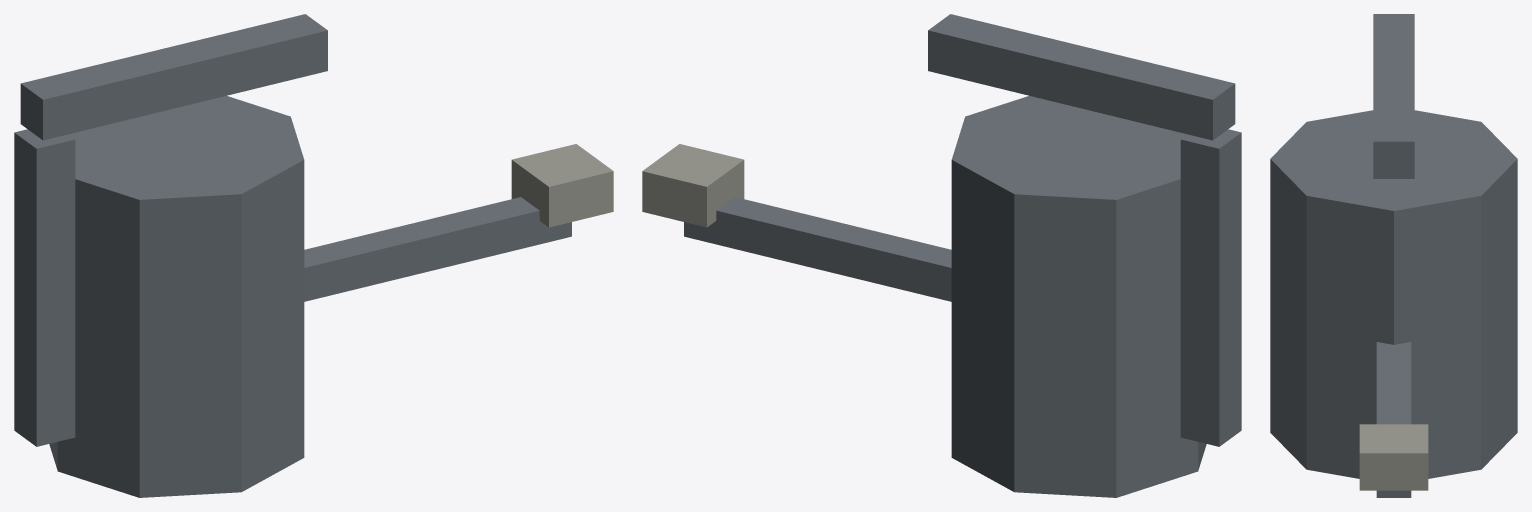
File: watering_can.glb
The picture shows the model from 3 angles, left to right: view 1: azimuth 30°, elevation 25°; view 2: azimuth 150°, elevation 25°; view 3: azimuth 270°, elevation 25°; orthographic projection. The views are drawn at different scales.
Visible parts, largest first — view 1: watering_can; view 2: watering_can; view 3: watering_can.
Part boxes in pixels (x1,y1,x2,y2): watering_can: (14,14,613,497); watering_can: (642,14,1241,497); watering_can: (1270,14,1517,497).
Size of the model in its own units: 0.44 by 0.285 by 0.18.
1 material, 1 textured.
